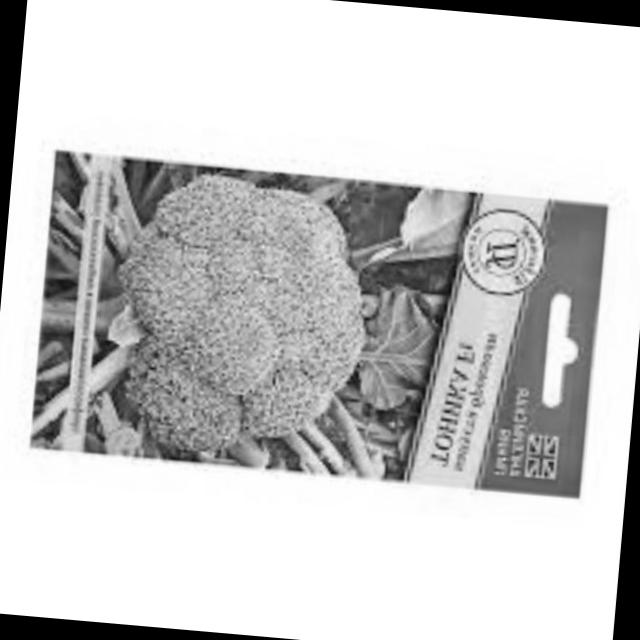broccoli: (96, 150, 416, 490)
